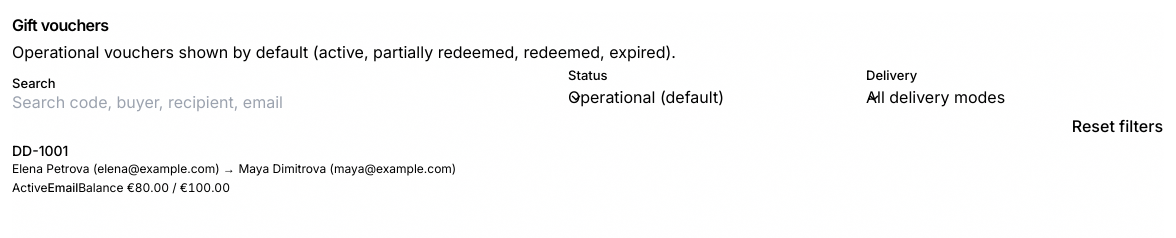
Test case: OpsGiftVouchers collection migration › preserves status select URL behavior, including abandoned checkout flags
Select "Pending payment (abandoned checkout)" in the dropdown labelled "Status" at (717, 97), box [568,87,866,107]
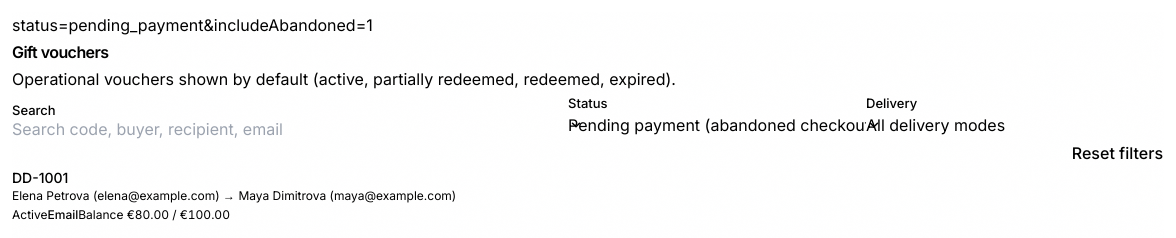
Expected: the text with test id "gv-search" shows "status=pending_payment", [12,15,373,35]
Expected: the text with test id "gv-search" shows "includeAbandoned=1", [12,15,373,35]
Select "All statuses" in the dropdown labelled "Status" at (717, 125), box [568,115,866,135]
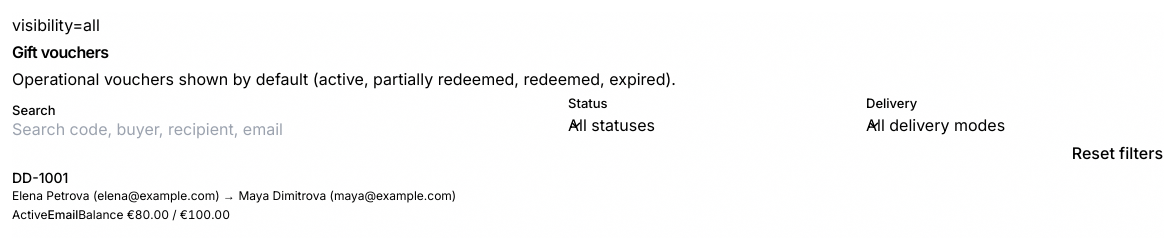
Expected: the text with test id "gv-search" reads "visibility=all", [12,15,100,35]
Expected: the text with test id "gv-search" no longer shows "status="
Expected: the text with test id "gv-search" no longer shows "includeAbandoned="
Select "Manual" in the dropdown labelled "Delivery" at (1015, 125), box [866,115,1164,135]
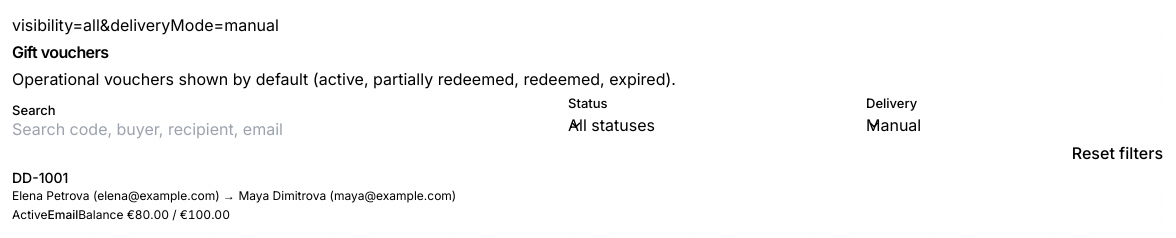
Expected: the text with test id "gv-search" shows "deliveryMode=manual", [12,15,279,35]
